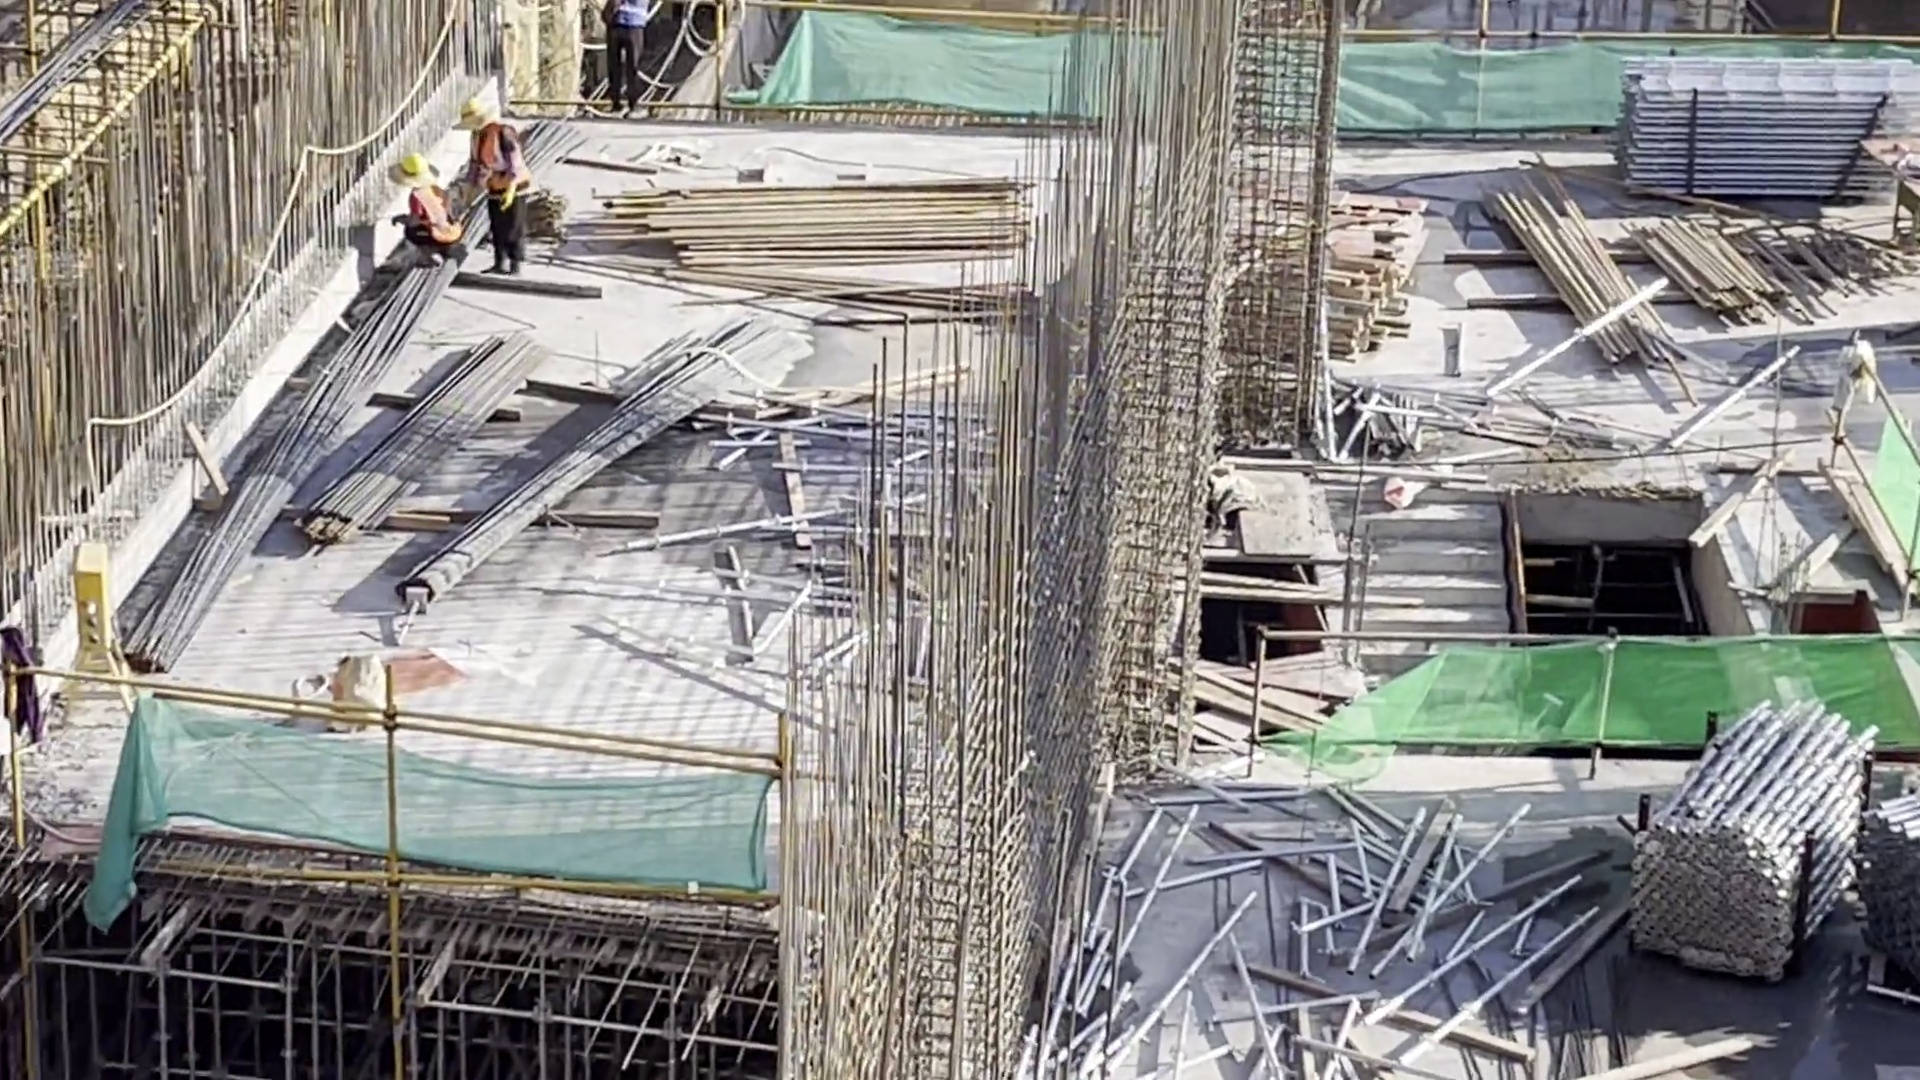ebox: (74, 558, 137, 731)
helmet: (458, 110, 503, 138), (390, 156, 436, 180)
person: (443, 104, 543, 286), (375, 148, 469, 276), (585, 1, 667, 122)
rebar: (150, 287, 409, 657), (414, 364, 735, 620), (346, 354, 504, 517), (1533, 992, 1645, 1080)
scaffold: (1636, 719, 1869, 961), (1631, 61, 1908, 204), (1864, 788, 1915, 971)
vest: (474, 135, 532, 202), (400, 199, 458, 244), (608, 1, 650, 29)
wood: (1227, 258, 1395, 359)
